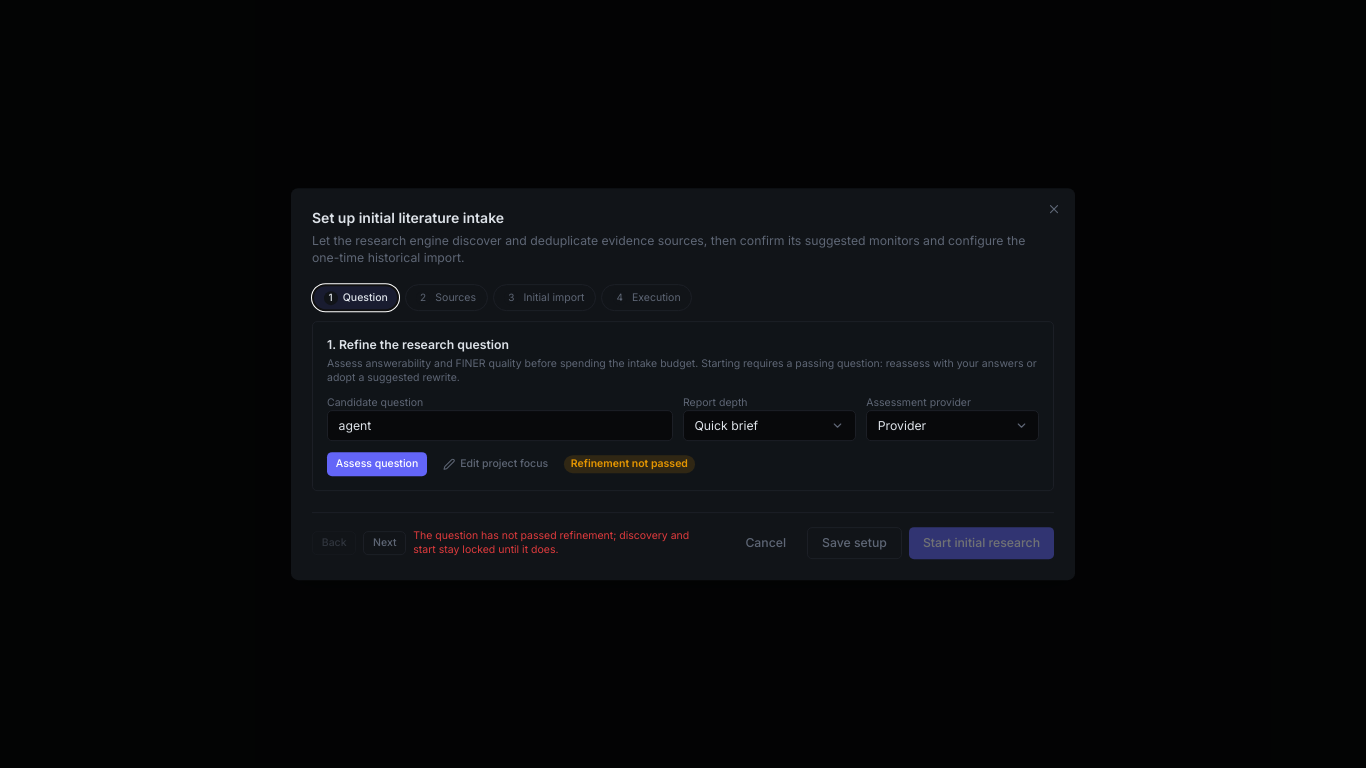
ResearchSetupDialog › locks discovery and start until the question passes refinement, and unlocks after adoption
This screenshot has width=1366, height=768.
Expected: the button "Start initial research" is disabled, left=909, top=527, right=1054, bottom=559
Click the button "2 Sources" at (446, 298), box left=405, top=284, right=488, bottom=311
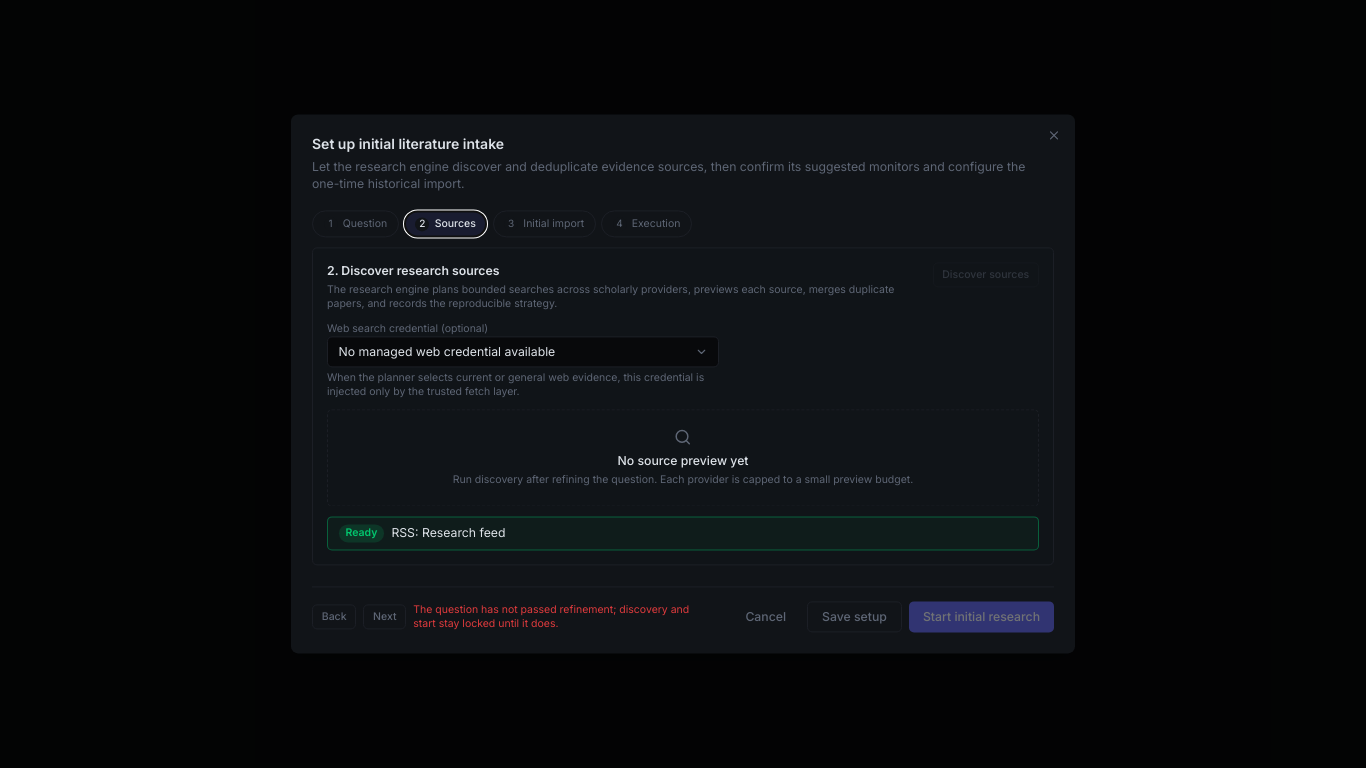
Expected: the button "Discover sources" is disabled, left=932, top=263, right=1039, bottom=287
Click the button "1 Question" at (355, 224), box left=312, top=211, right=399, bottom=237
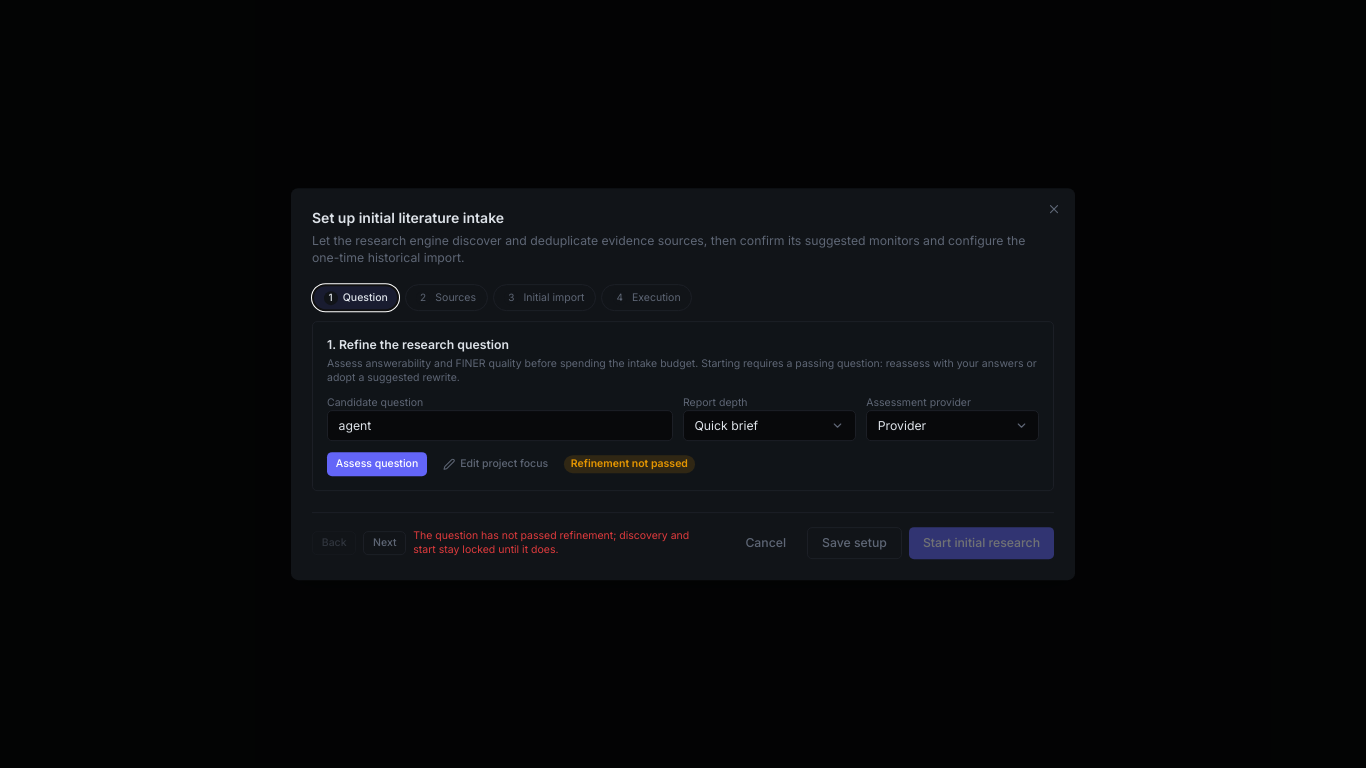
Click the button "Assess question" at (377, 464), box left=327, top=452, right=427, bottom=476
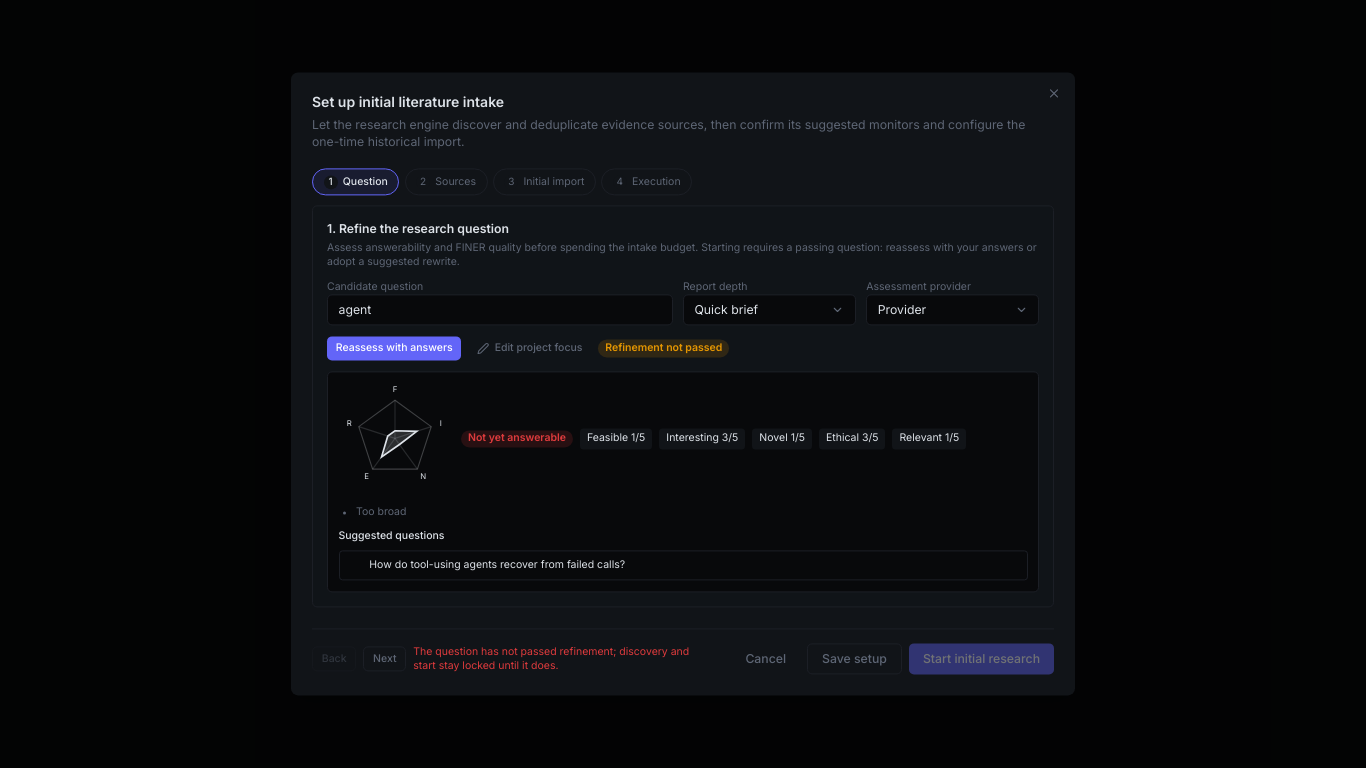
Expected: the button "Start initial research" is disabled, left=909, top=643, right=1054, bottom=675
Expected: the text "Not yet answerable" is shown, left=461, top=430, right=573, bottom=447
Click the button "How do tool-using agents recover from failed calls?" at (497, 565), box left=338, top=551, right=1028, bottom=581
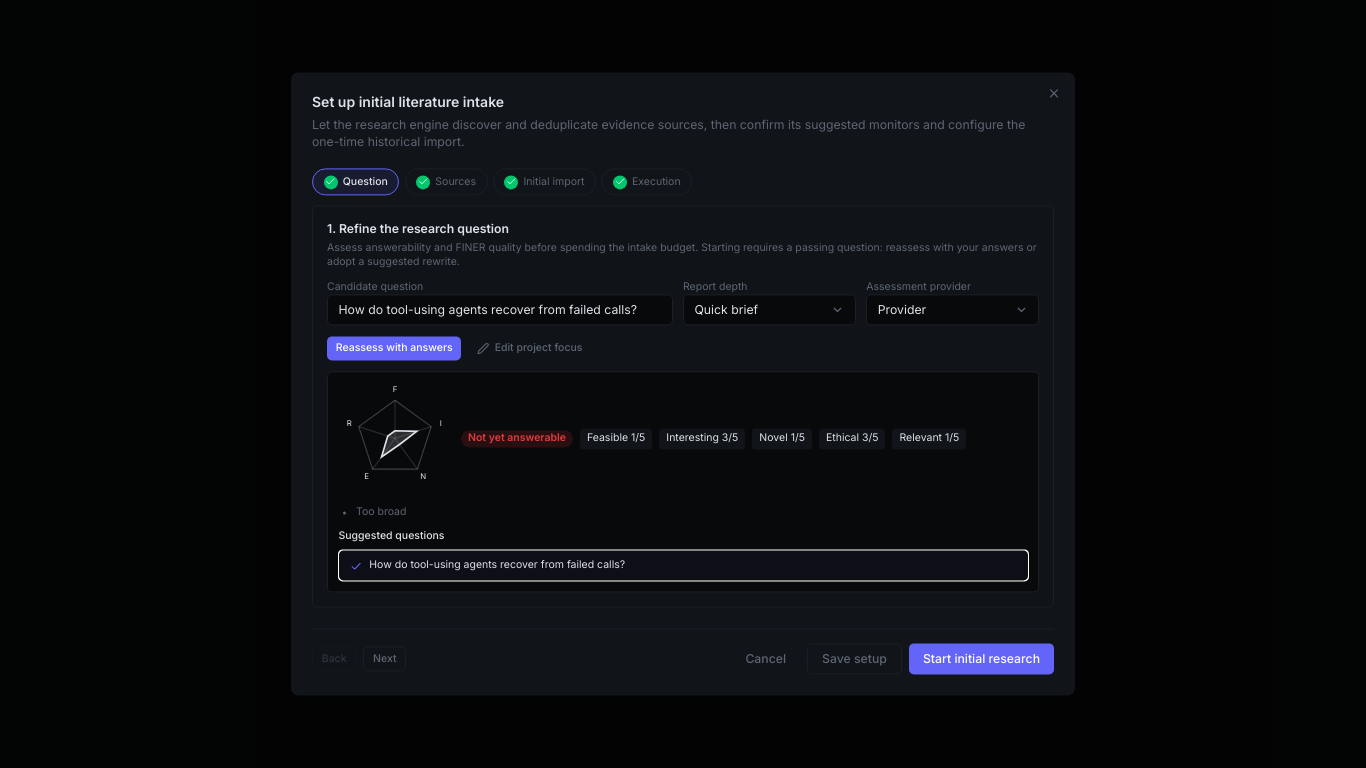
Click the button "Sources" at (446, 182), box left=405, top=169, right=488, bottom=195
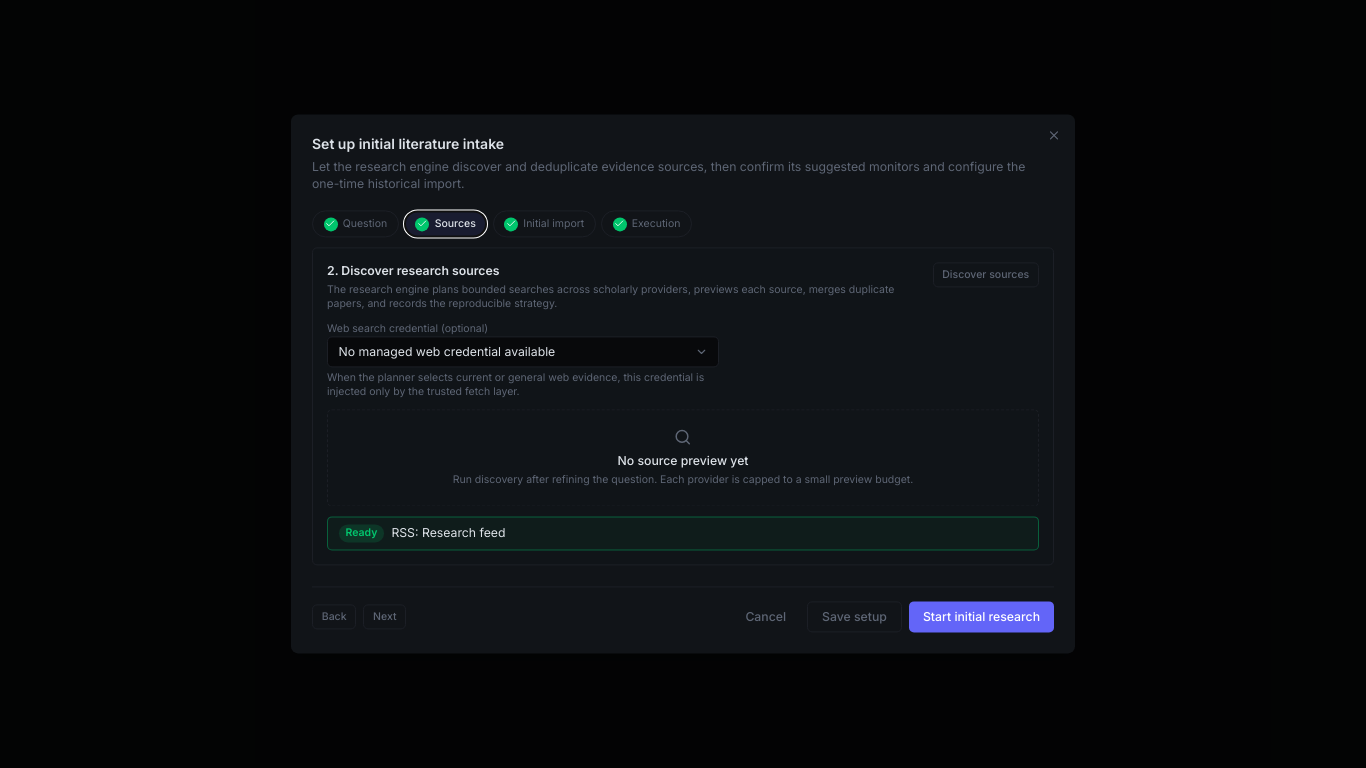
Expected: the button "Discover sources" is enabled, left=932, top=263, right=1039, bottom=287
